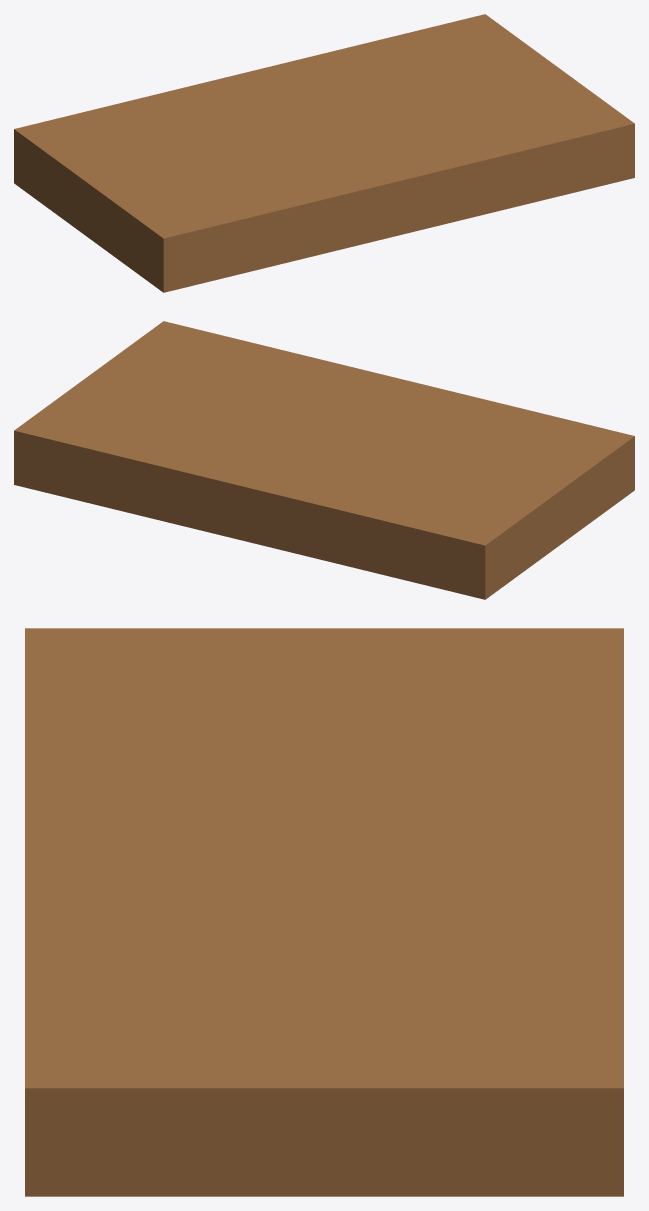
The model's file is lid-wood.glb.
The picture shows the model from 3 angles, top to bottom: view 1: azimuth 30°, elevation 25°; view 2: azimuth 150°, elevation 25°; view 3: azimuth 270°, elevation 25°; orthographic projection. The views are drawn at different scales.
Parts seen in each view (by area): view 1: root; view 2: root; view 3: root.
Boxes of the visible parts, x1=… form: root: x1=14, y1=14, x2=634, y2=292; root: x1=14, y1=321, x2=634, y2=599; root: x1=25, y1=628, x2=623, y2=1196.
Bounding box in the file's own units: 2 × 0.22 × 1.1.
1 material, 1 textured.
